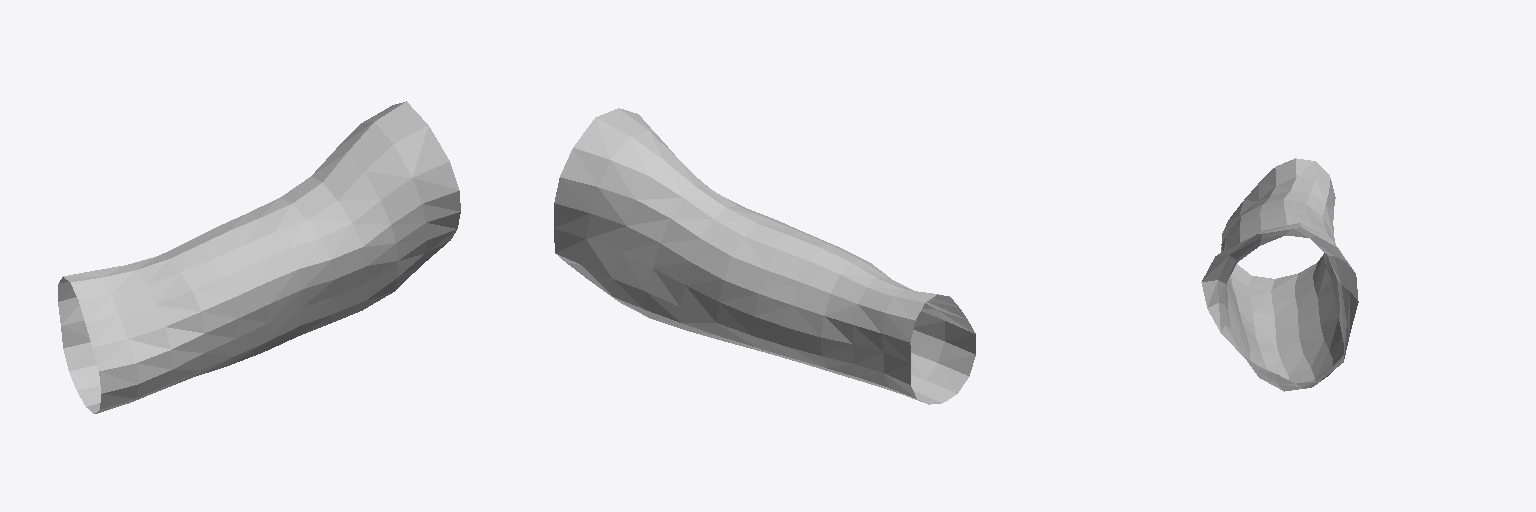
File: RightShoulder.obj
3 renders of one model, left to right at view 1: azimuth 30°, elevation 25°; view 2: azimuth 150°, elevation 25°; view 3: azimuth 270°, elevation 25°, orthographic.
Parts seen in each view (by area): view 1: RightShoulder_SmoothSkin2_jackie RightShoulder_polySurface2 Righ; view 2: RightShoulder_SmoothSkin2_jackie RightShoulder_polySurface2 Righ; view 3: RightShoulder_SmoothSkin2_jackie RightShoulder_polySurface2 Righ.
Part boxes in pixels (left/top/right/bottom): RightShoulder_SmoothSkin2_jackie RightShoulder_polySurface2 Righ: left=58, top=101, right=460, bottom=413; RightShoulder_SmoothSkin2_jackie RightShoulder_polySurface2 Righ: left=554, top=108, right=975, bottom=404; RightShoulder_SmoothSkin2_jackie RightShoulder_polySurface2 Righ: left=1201, top=158, right=1358, bottom=391.
Size of the model in its own units: 11.31 by 6.34 by 4.22.